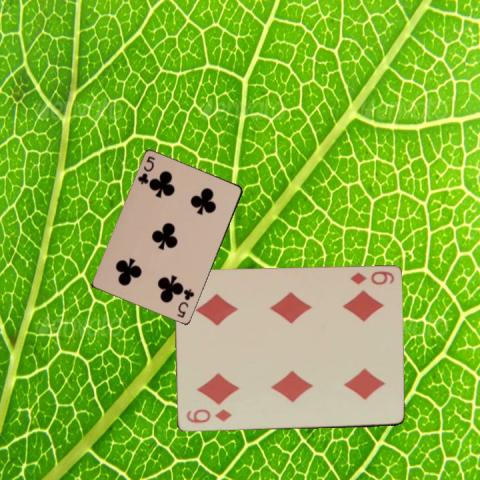5c: (174, 286, 196, 319), (134, 153, 156, 186)
6d: (347, 268, 396, 287), (183, 406, 233, 424)
